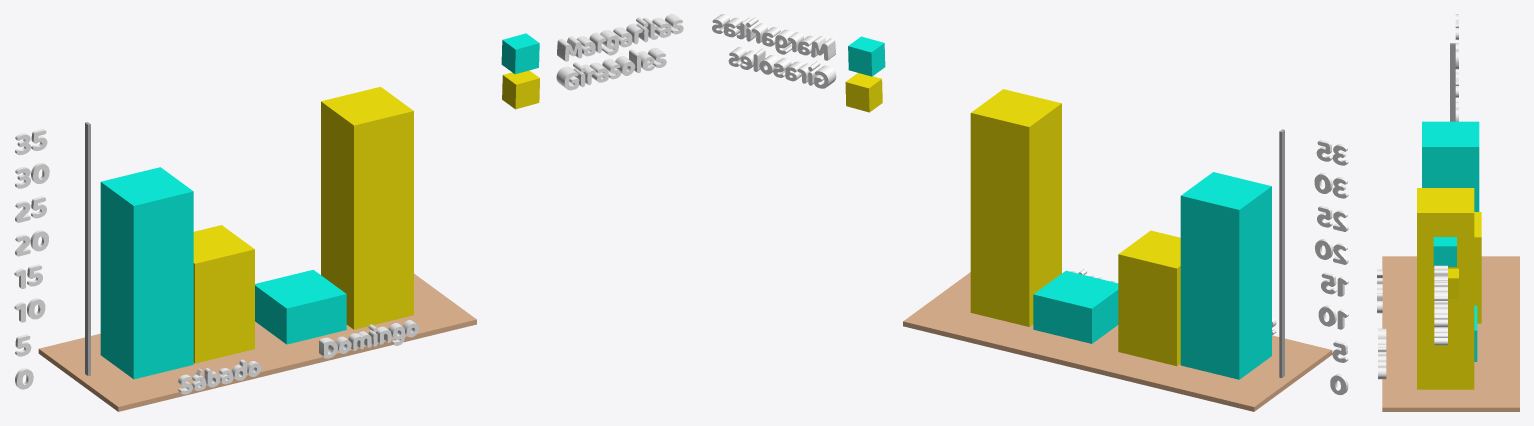
Rendered from barras-gltf.glb.
3 renders of one model, left to right at view 1: azimuth 30°, elevation 25°; view 2: azimuth 150°, elevation 25°; view 3: azimuth 270°, elevation 25°, orthographic. The views are drawn at different scales.
Size of what is drawn, in the model's own units: 4.75 by 1.81 by 1.04.
